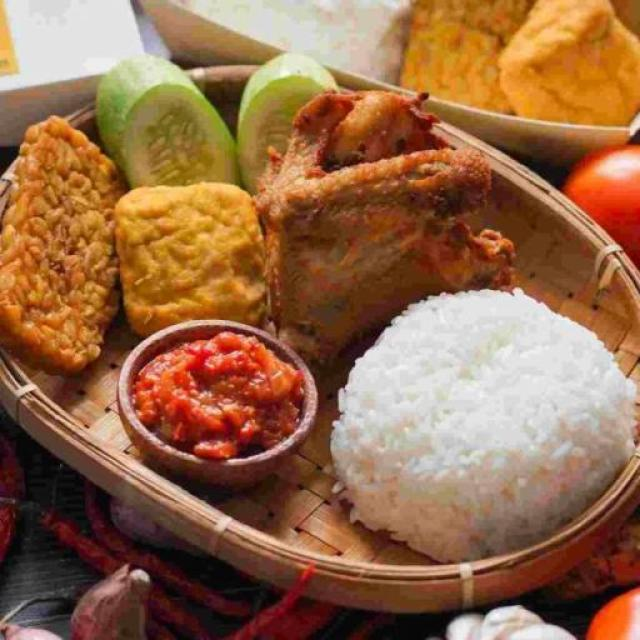ayam goreng: (261, 89, 514, 361)
nasi: (332, 280, 640, 561)
piring: (1, 62, 640, 640)
sambal: (134, 338, 304, 462)
tahu goreng: (110, 183, 268, 337)
tempe goreng: (5, 109, 126, 383)
